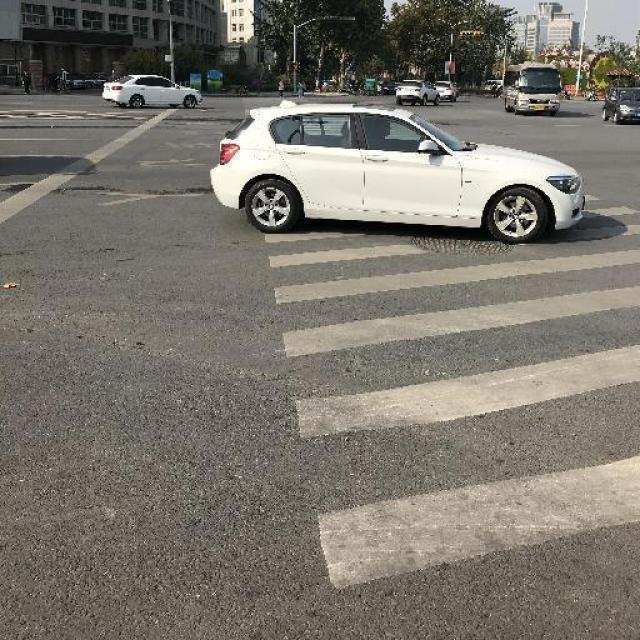crosswalk: (262, 230, 640, 590)
